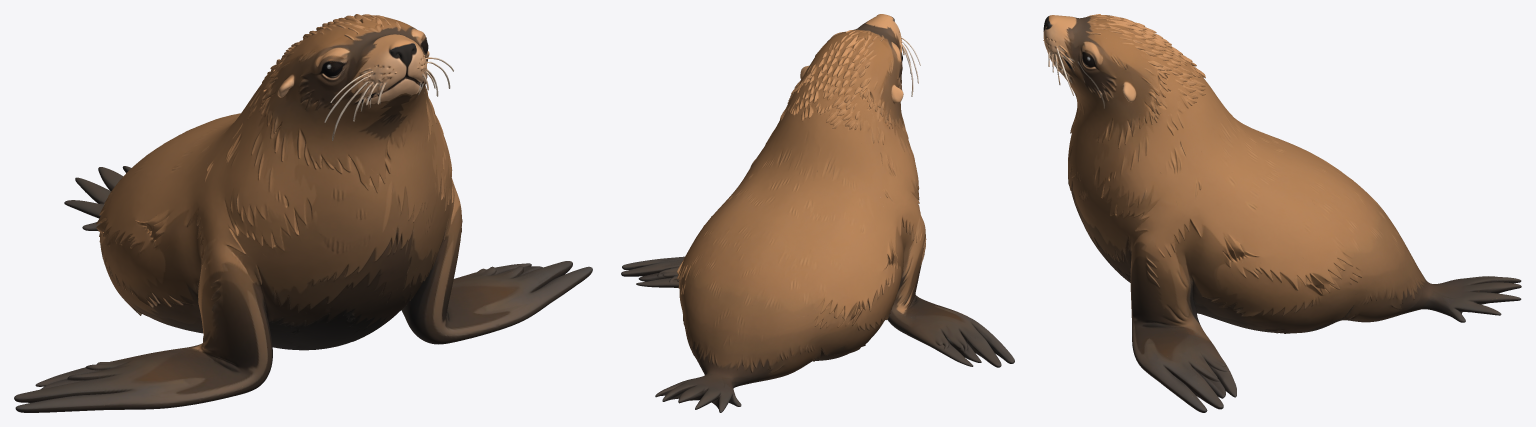
The model's file is lobo_marino.glb.
The picture shows the model from 3 angles, left to right: view 1: azimuth 30°, elevation 25°; view 2: azimuth 150°, elevation 25°; view 3: azimuth 270°, elevation 25°; orthographic projection. The views are drawn at different scales.
Bounding box in the file's own units: 0.1621 × 0.1 × 0.1503.
Materials: 1 (1 with a texture image).
